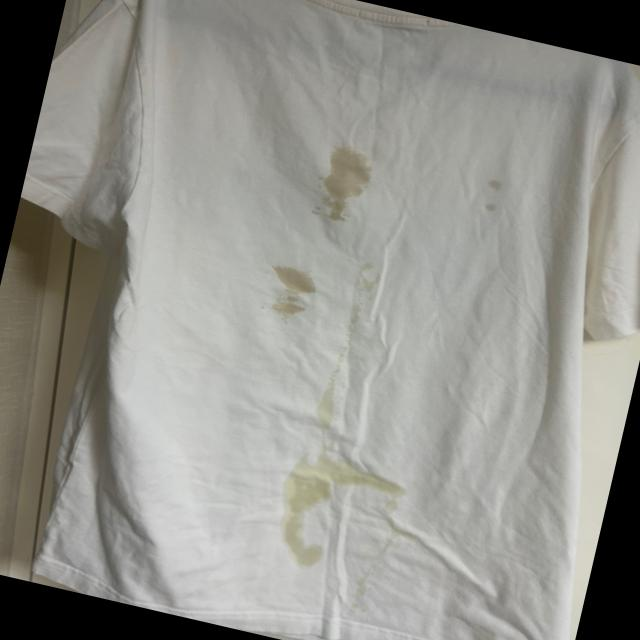stain: (274, 442, 412, 520), (252, 482, 346, 587), (306, 132, 390, 230), (256, 258, 336, 342), (300, 361, 349, 437), (466, 171, 516, 226), (337, 262, 389, 310)
